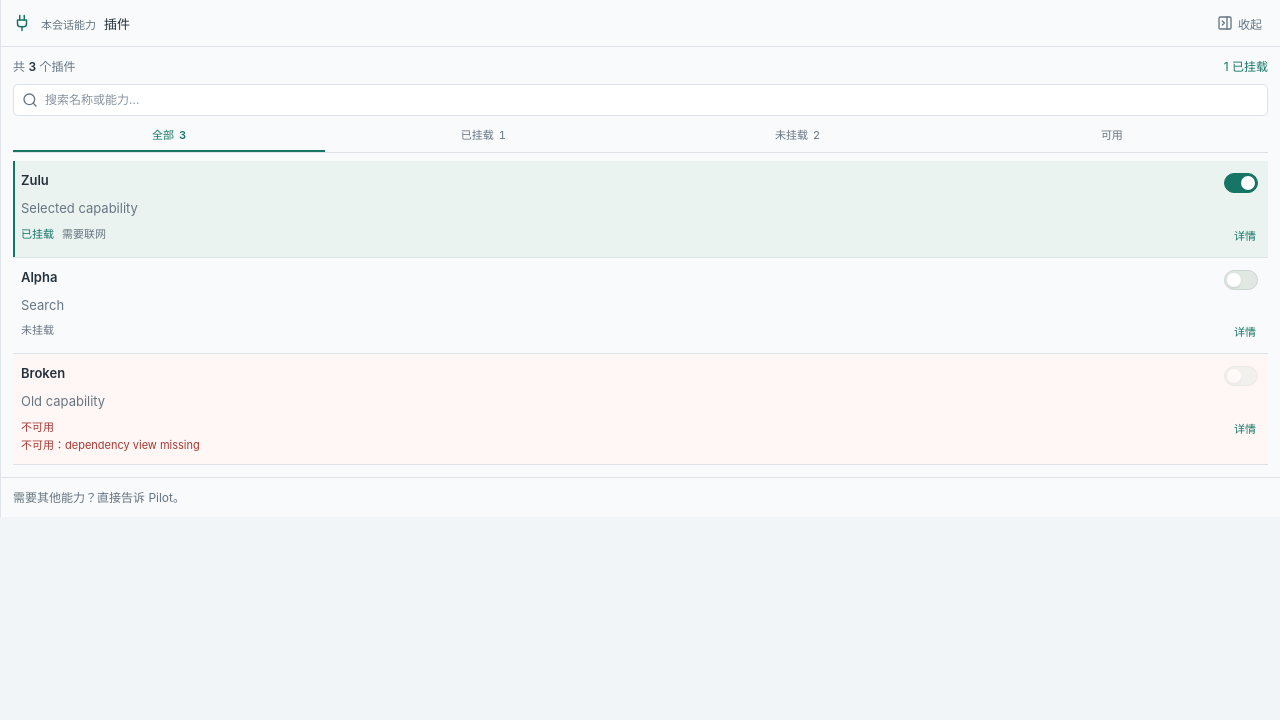
Test: shared plugin settings in session › keeps local draft changes and persisted Session writes with their respective owner
Click the switch named "挂载 Alpha" at (1241, 280), box [1222,268,1260,292]
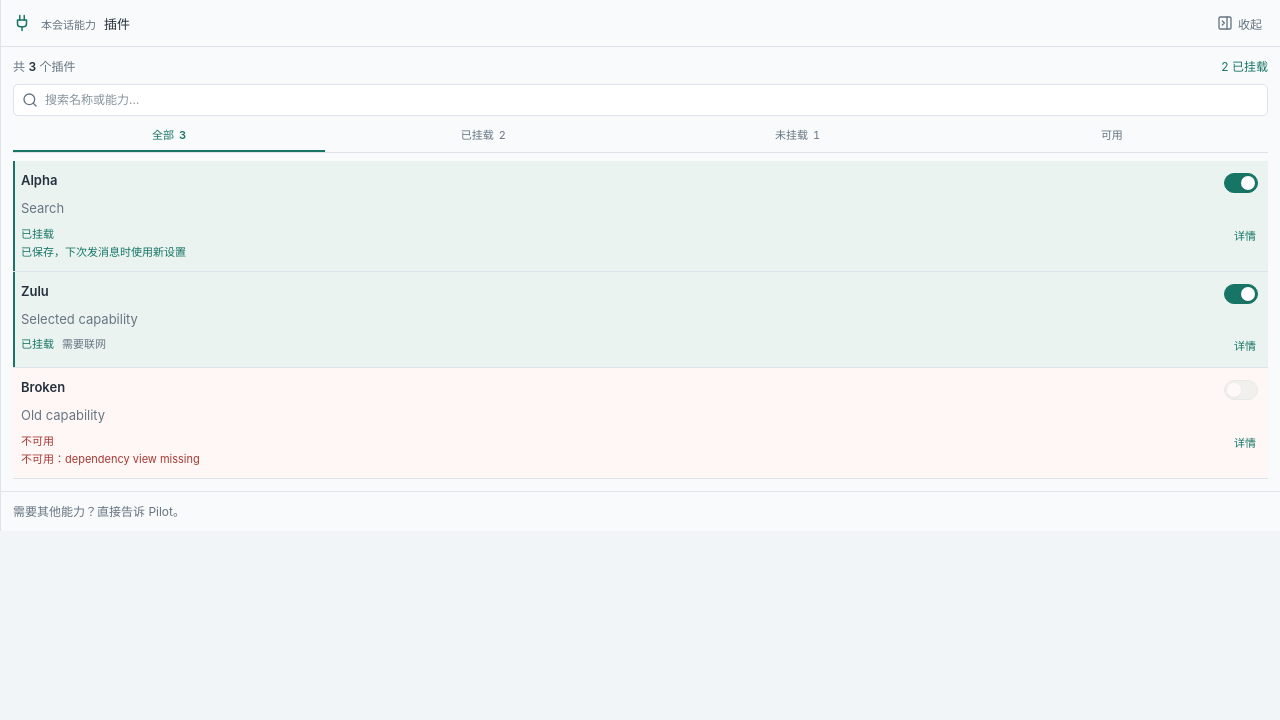
Expected: the text "已保存，下次发消息时使用新设置" is shown, [21,245,186,259]
